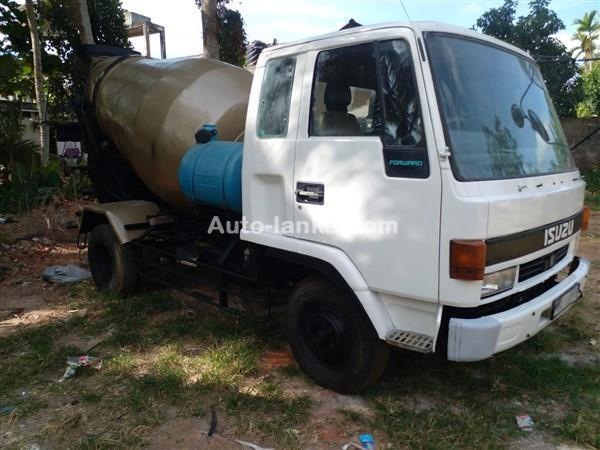truck: (73, 21, 590, 394)
